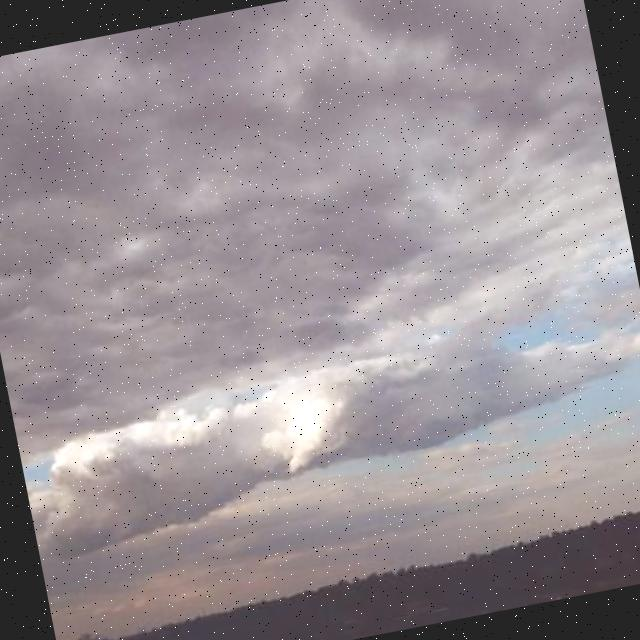Sc: (1, 1, 640, 452)
